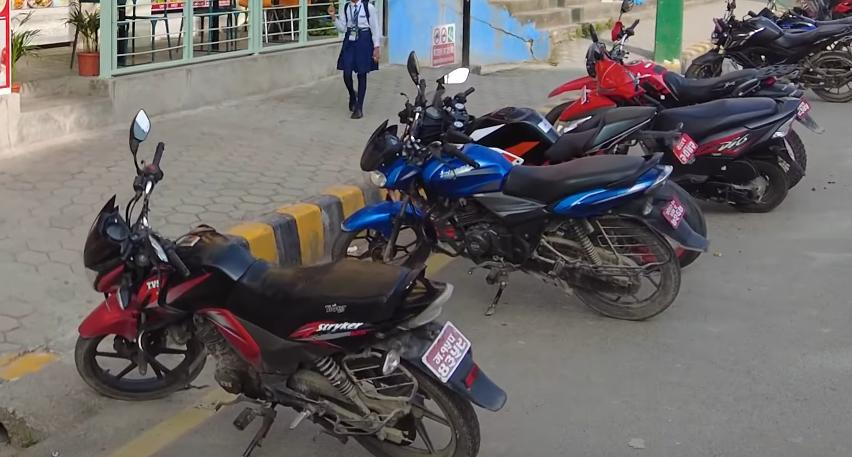bike: (67, 100, 491, 457), (329, 85, 709, 326)
